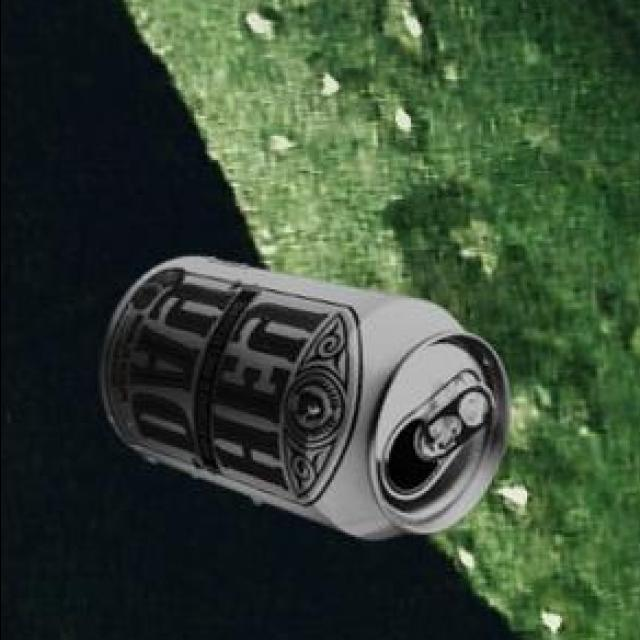logam: (102, 260, 512, 542)
